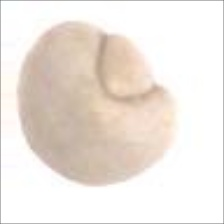L5: (96, 28, 162, 105), (23, 135, 82, 186)
L6: (11, 17, 181, 192)
